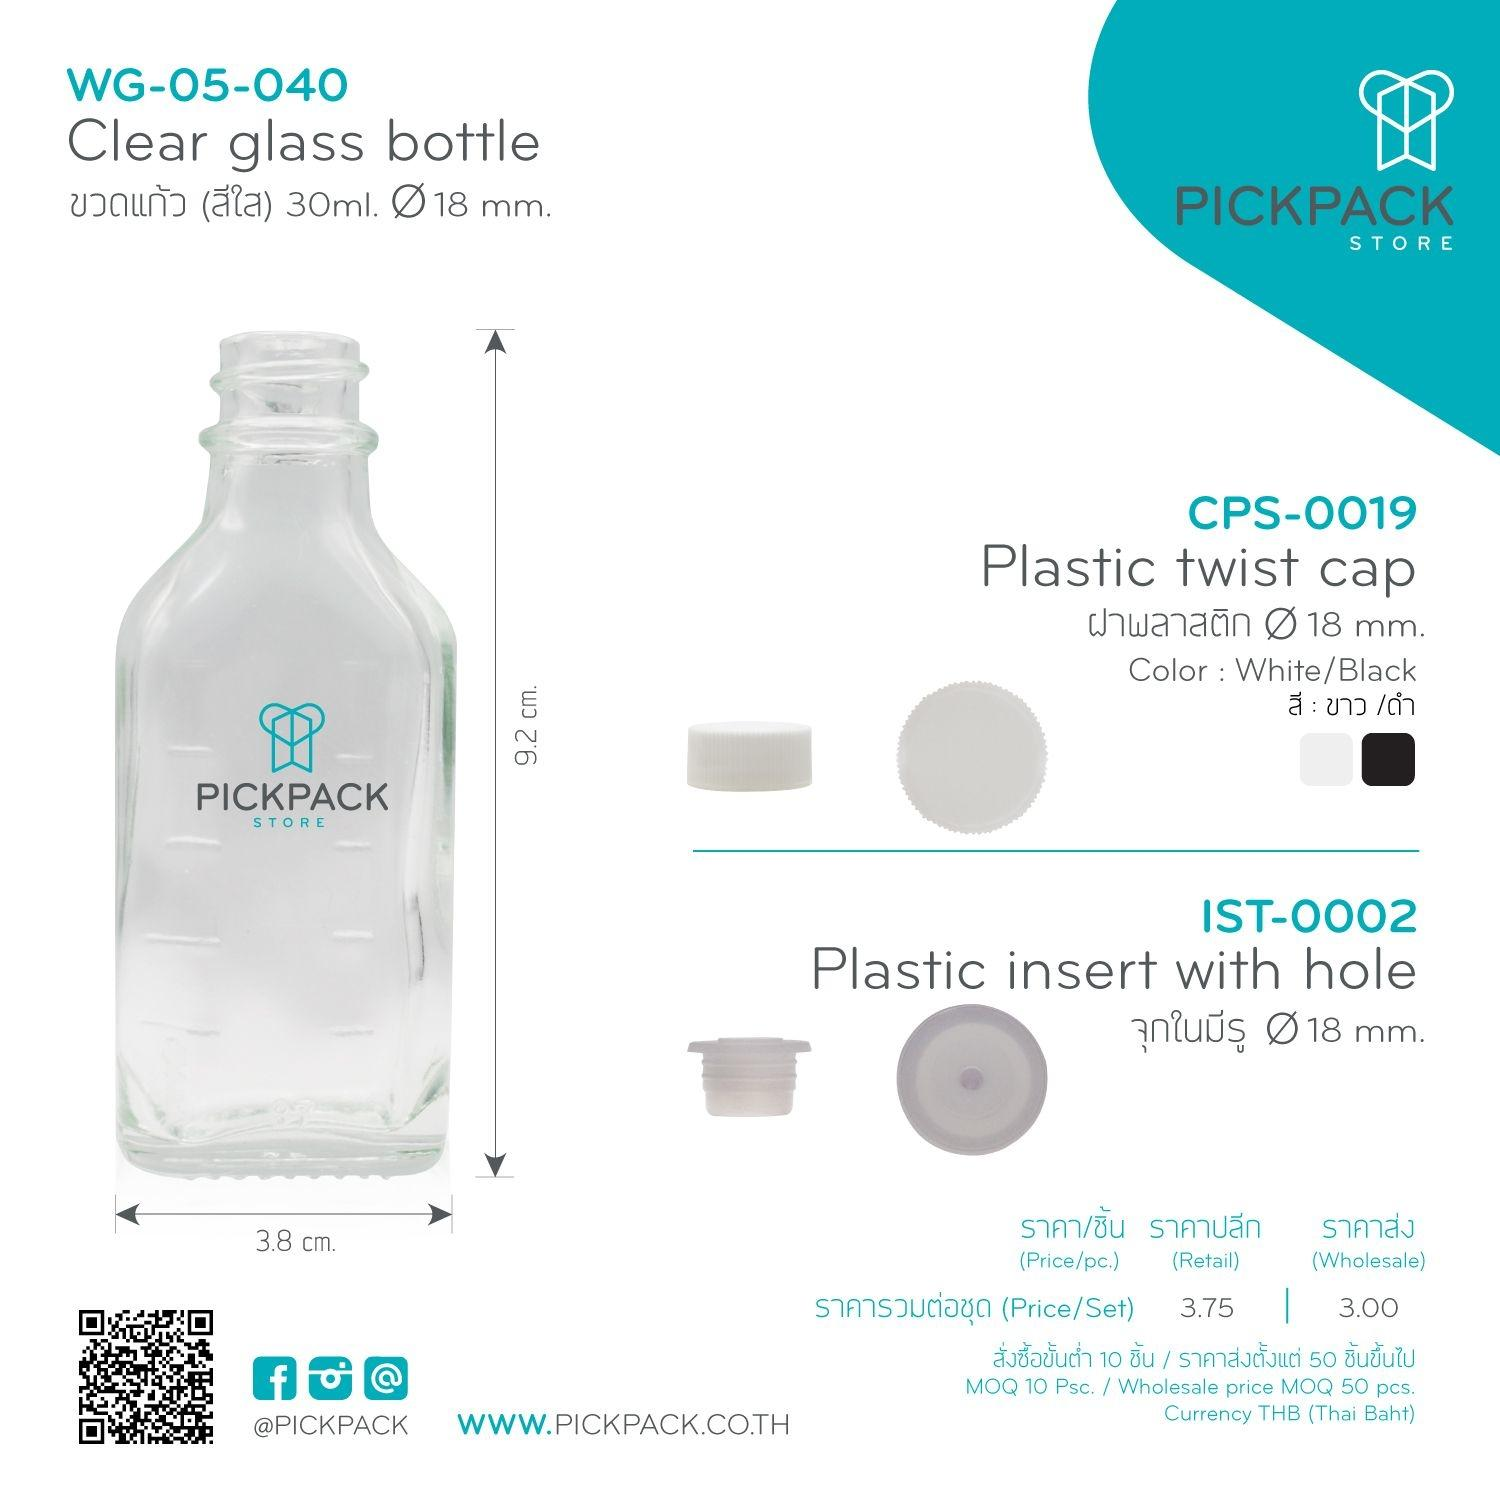glass_bottleww: (73, 247, 580, 1341)
